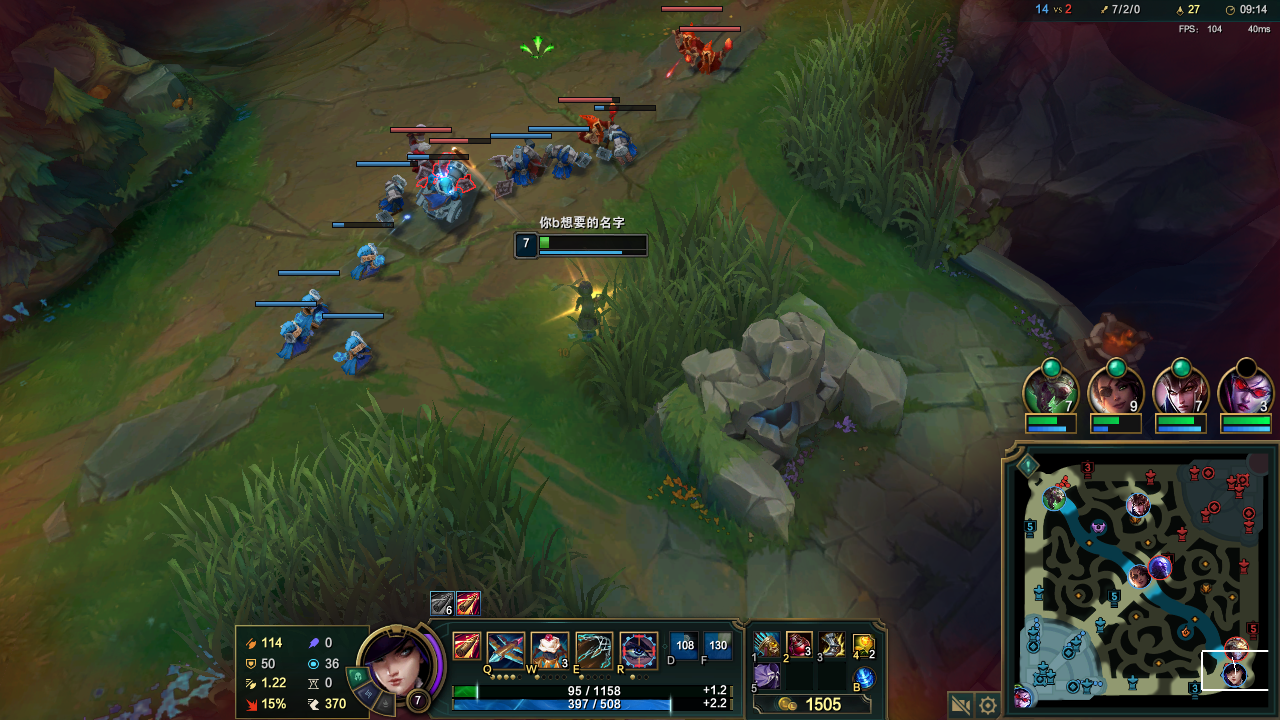DFXB: (690, 41, 723, 73), (449, 156, 477, 190), (584, 118, 610, 148), (410, 143, 431, 161), (679, 28, 698, 45)
WFXB: (418, 172, 467, 225), (495, 141, 540, 185), (331, 332, 377, 373), (601, 127, 639, 164), (549, 142, 584, 178), (379, 178, 412, 212), (276, 319, 305, 351), (299, 292, 327, 323), (351, 248, 386, 272)
